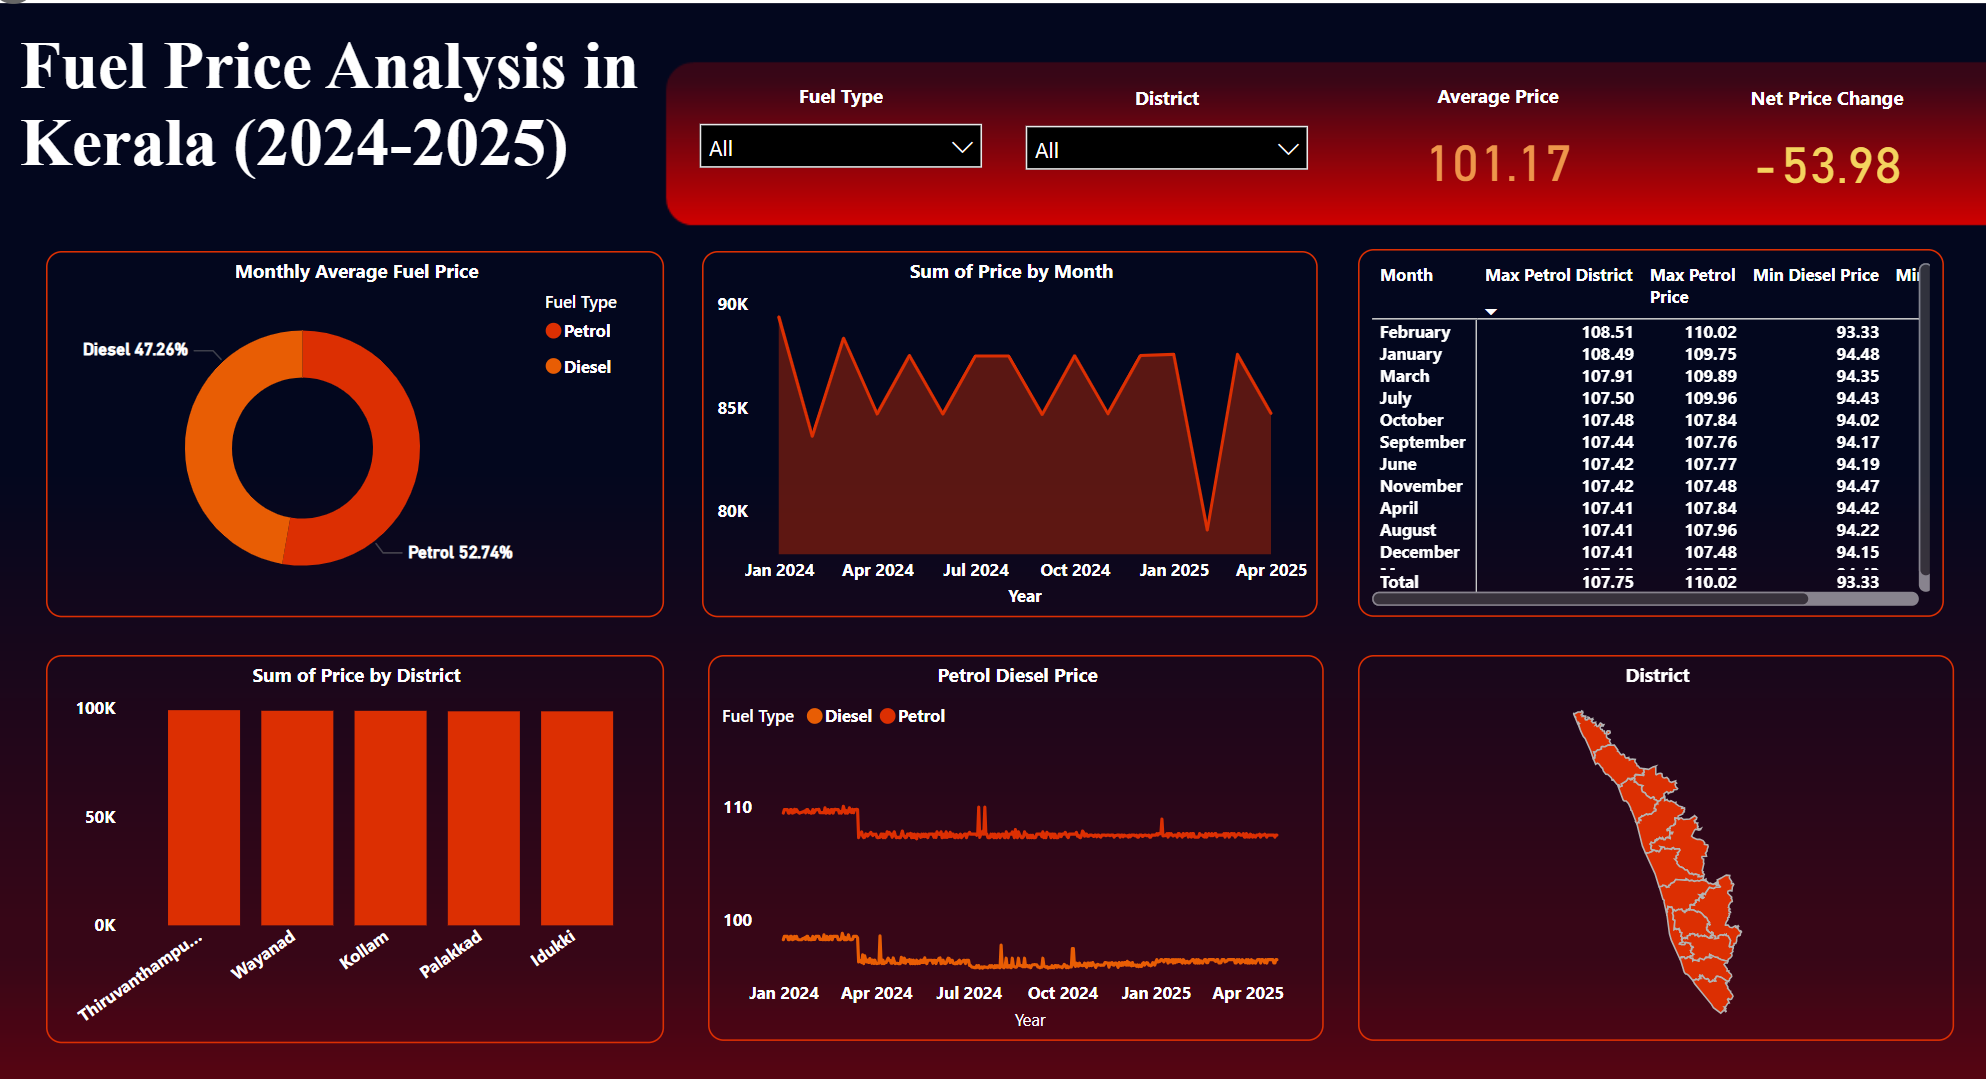

What the dashboard file says about the page in this screenshot:
{"tool":"powerbi","page":{"name":"Page 1","canvas":[1280,720],"ordinal":0},"visuals":[{"type":"lineChart","title":"Petrol Diesel Price","fields":{"Series":["Transformed_Kerala_Fuel_Prices.Fuel_Type"],"Y":["Max(Transformed_Kerala_Fuel_Prices.Price)"],"Category":["Transformed_Kerala_Fuel_Prices.Date.Variation.Date Hierarchy.Year","Transformed_Kerala_Fuel_Prices.Date.Variation.Date Hierarchy.Quarter","Transformed_Kerala_Fuel_Prices.Date.Variation.Date Hierarchy.Month","Transformed_Kerala_Fuel_Prices.Date.Variation.Date Hierarchy.Day"]},"box":[462.8,425.8,392.7,270.3],"z":0},{"type":"columnChart","title":"Sum of Price by District","fields":{"Category":["Transformed_Kerala_Fuel_Prices.District"],"Y":["Sum(Transformed_Kerala_Fuel_Prices.Price)"]},"box":[40.8,425.8,393.9,270.3],"z":1000},{"type":"stackedAreaChart","title":"Sum of Price by Month","fields":{"Y":["Sum(Transformed_Kerala_Fuel_Prices.Price)"],"Category":["Transformed_Kerala_Fuel_Prices.Date.Variation.Date Hierarchy.Year","Transformed_Kerala_Fuel_Prices.Date.Variation.Date Hierarchy.Quarter","Transformed_Kerala_Fuel_Prices.Date.Variation.Date Hierarchy.Month"]},"box":[459,192.5,392.7,218],"z":2000},{"type":"pivotTable","fields":{"Rows":["Transformed_Kerala_Fuel_Prices.Date.Variation.Date Hierarchy.Month"],"Values":["Transformed_Kerala_Fuel_Prices.Max Petrol District","Transformed_Kerala_Fuel_Prices.Max Petrol Price","Transformed_Kerala_Fuel_Prices.Min Diesel Price","Transformed_Kerala_Fuel_Prices.Min Petrol Price"]},"box":[877.1,191.2,373.5,234.6],"z":3000},{"type":"slicer","title":"District","fields":{"Values":["Transformed_Kerala_Fuel_Prices.District"]},"box":[655.3,86.7,200.2,80.3],"z":4000},{"type":"slicer","title":"Fuel Type","fields":{"Values":["Transformed_Kerala_Fuel_Prices.Fuel_Type"]},"box":[447.5,85.4,200.2,81.6],"z":5000},{"type":"donutChart","title":"Monthly Average Fuel Price","fields":{"Y":["Transformed_Kerala_Fuel_Prices.Monthly Average Price"],"Category":["Transformed_Kerala_Fuel_Prices.Fuel_Type"]},"box":[40.8,192.5,393.9,218],"z":6000},{"type":"textbox","box":[19.1,44.6,428.4,122.4],"z":7000},{"type":"card","title":"Average Price","fields":{"Values":["Transformed_Kerala_Fuel_Prices.Average Price"]},"box":[865.7,85.4,201.4,80.3],"z":8000},{"type":"card","title":"Net Price Change","fields":{"Values":["Sum(Transformed_Kerala_Fuel_Prices.Change)"]},"box":[1076,86.7,200.2,80.3],"z":9000},{"type":"shapeMap","title":"District ","fields":{"Category":["Transformed_Kerala_Fuel_Prices.District"]},"box":[877.1,450,379.9,246.1],"z":10000},{"type":"actionButton","box":[0,0,100,40],"z":11000}]}

Visuals, with their boxes on the page's 1280x720 design canvas (x1, y1, x2, y2). These are canvas units, not pixel positions in the 1986x1079 screenshot, which may show the page scaled, cropped or inside an application window:
"Petrol Diesel Price" lineChart: crop(463, 426, 856, 696)
"Sum of Price by District" columnChart: crop(41, 426, 435, 696)
"Sum of Price by Month" stackedAreaChart: crop(459, 192, 852, 410)
pivotTable - Transformed_Kerala_Fuel_Prices.Date.Variation.Date Hierarchy.Month x Transformed_Kerala_Fuel_Prices.Max Petrol District: crop(877, 191, 1251, 426)
"District" slicer: crop(655, 87, 856, 167)
"Fuel Type" slicer: crop(448, 85, 648, 167)
"Monthly Average Fuel Price" donutChart: crop(41, 192, 435, 410)
textbox: crop(19, 45, 448, 167)
"Average Price" card: crop(866, 85, 1067, 166)
"Net Price Change" card: crop(1076, 87, 1276, 167)
"District " shapeMap: crop(877, 450, 1257, 696)
actionButton: crop(0, 0, 100, 40)
